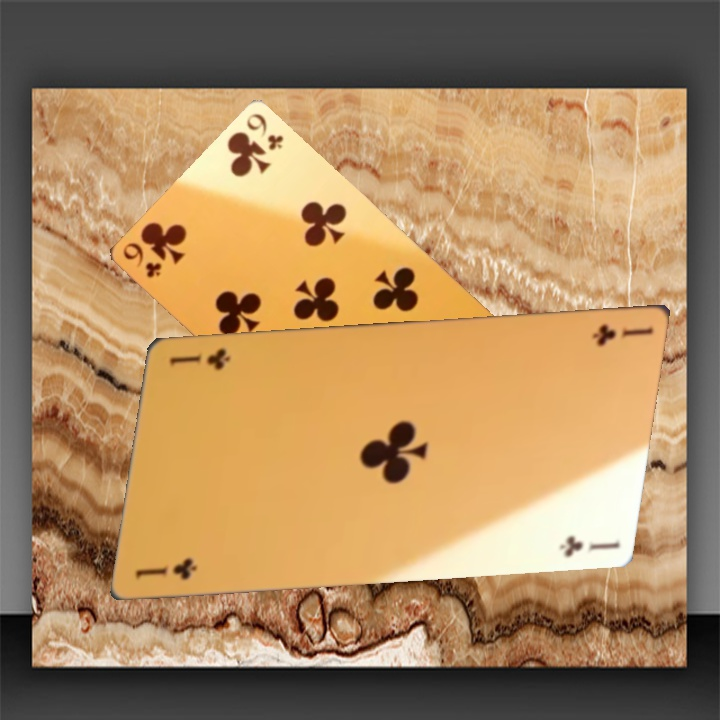1c: (155, 345, 233, 377), (122, 557, 200, 589), (578, 317, 656, 348), (545, 529, 623, 560)
9c: (240, 109, 295, 161), (118, 237, 173, 289)
